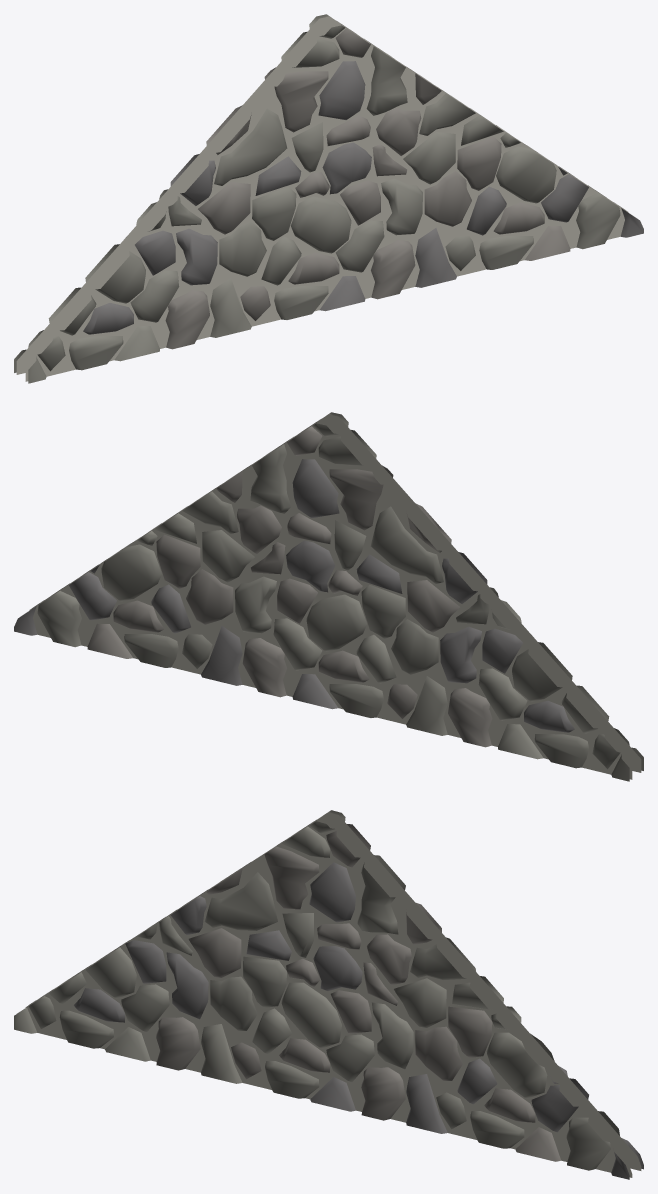
File: rpgpp_ag_roof_end_01_9x4_wall_d.fbx
The picture shows the model from 3 angles, top to bottom: view 1: azimuth 30°, elevation 25°; view 2: azimuth 150°, elevation 25°; view 3: azimuth 330°, elevation 25°; orthographic projection.
Parts seen in each view (by area): view 1: rpgpp_ag_roof_end_01_9x4_wall_d; view 2: rpgpp_ag_roof_end_01_9x4_wall_d; view 3: rpgpp_ag_roof_end_01_9x4_wall_d.
Part boxes in pixels (x1,y1,x2,y2): rpgpp_ag_roof_end_01_9x4_wall_d: (14, 14, 643, 383); rpgpp_ag_roof_end_01_9x4_wall_d: (14, 412, 643, 781); rpgpp_ag_roof_end_01_9x4_wall_d: (14, 810, 643, 1179).
Bounding box in the file's own units: 9 × 3.95 × 0.404.
